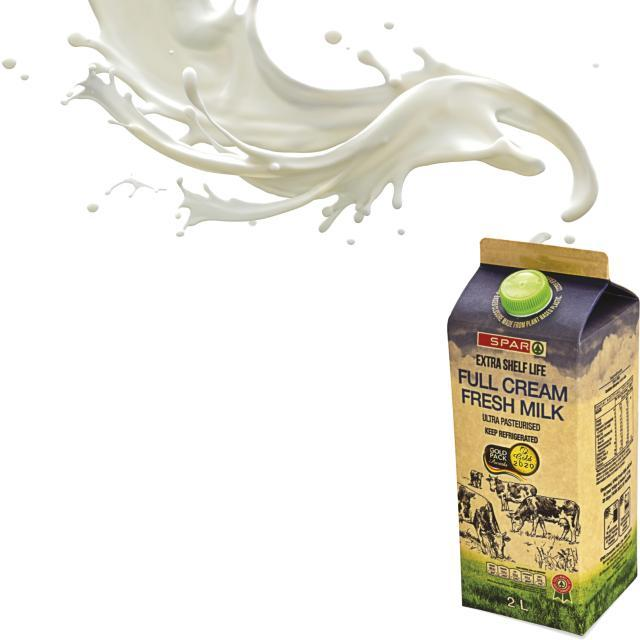Carton: (439, 218, 640, 639)
